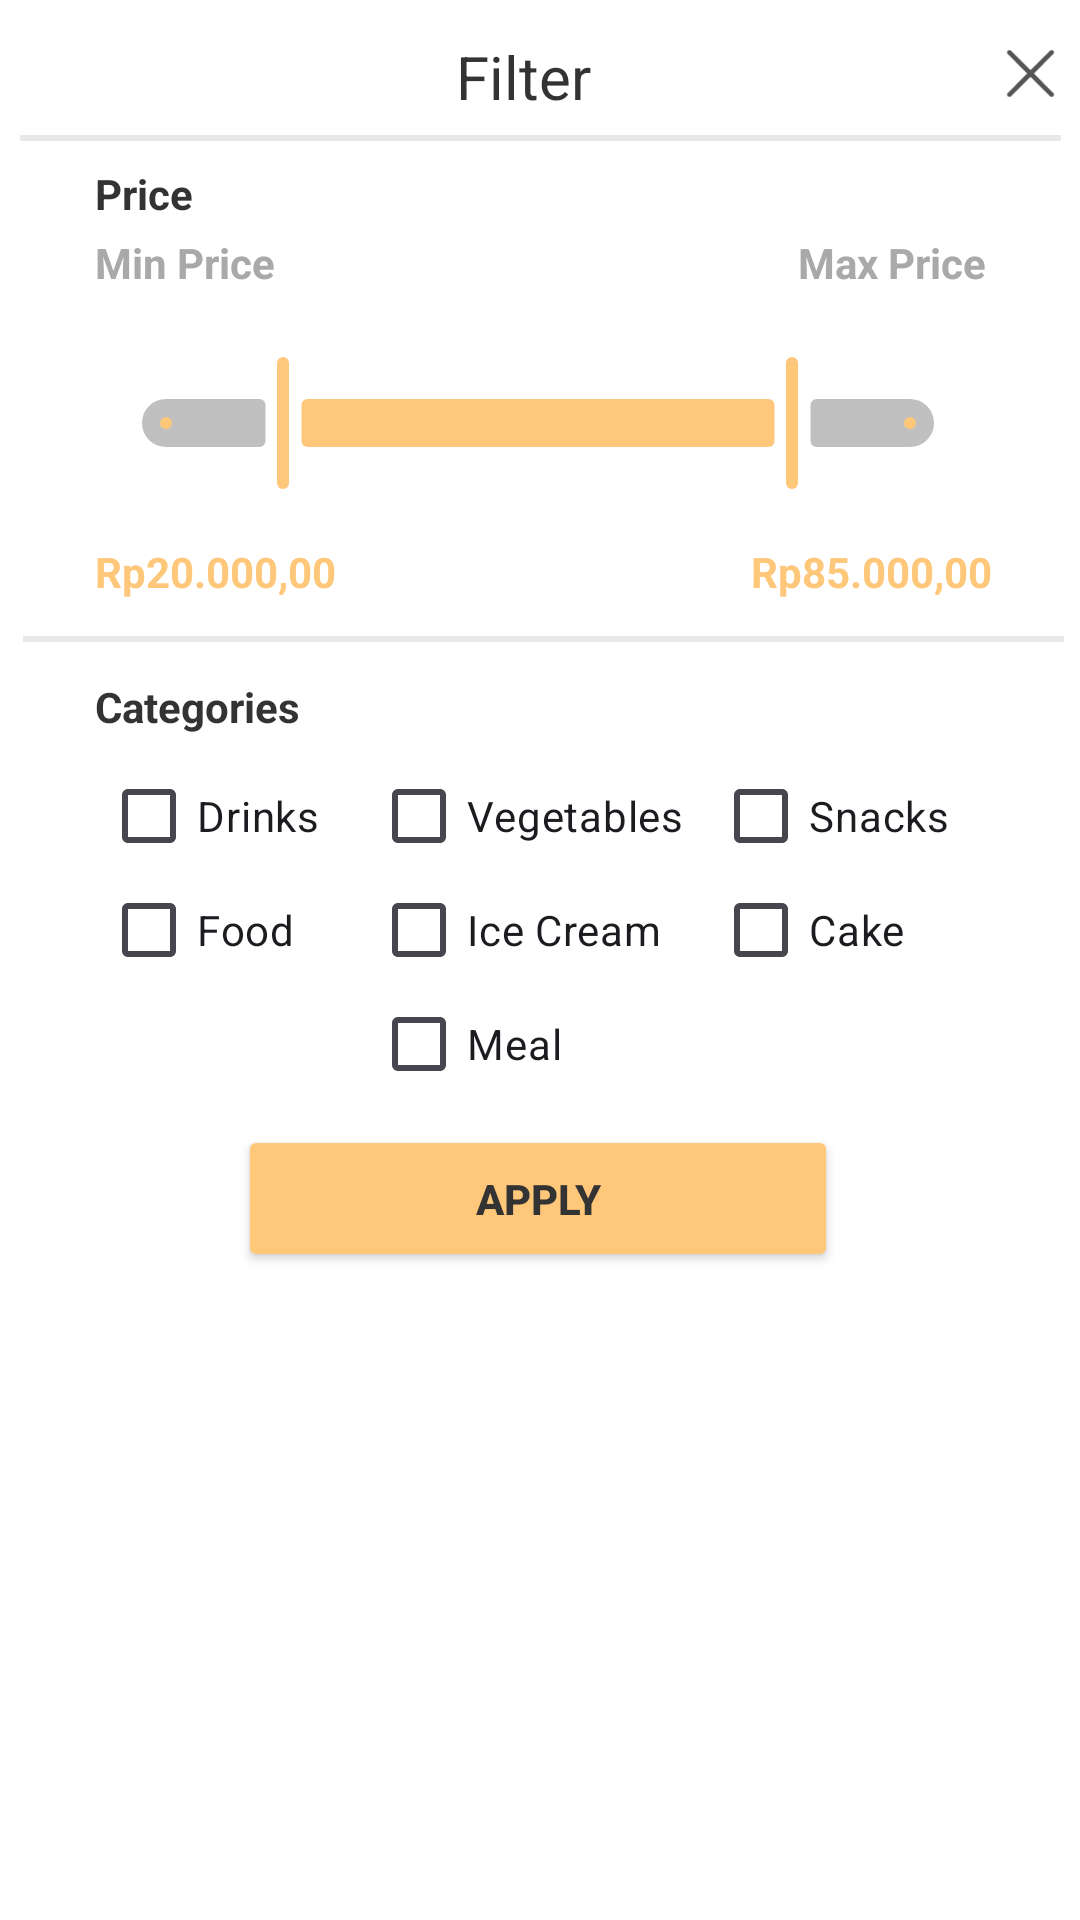

Named icons in this screenshot (1080*1920) and their centers, [x,y]:
xmark: [1030,73]
